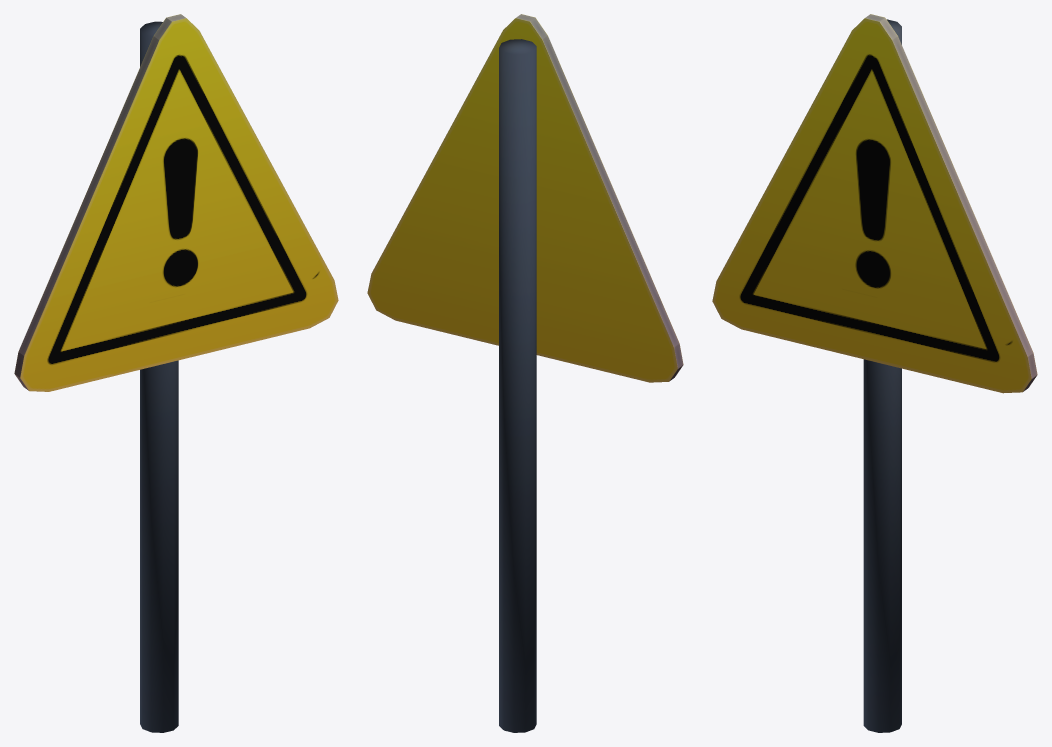
File: sign_04.glb
The picture shows the model from 3 angles, left to right: view 1: azimuth 30°, elevation 25°; view 2: azimuth 150°, elevation 25°; view 3: azimuth 330°, elevation 25°; orthographic projection. The views are drawn at different scales.
Parts seen in each view (by area): view 1: Pole.004; view 2: Pole.004; view 3: Pole.004.
Boxes of the visible parts, box(x1,y1,x2,y2) form: Pole.004: box(14, 14, 338, 732); Pole.004: box(367, 14, 683, 732); Pole.004: box(712, 14, 1037, 732).
Size of the model in its own units: 1.82 by 3.9 by 0.2429.
1 material, 1 textured.
